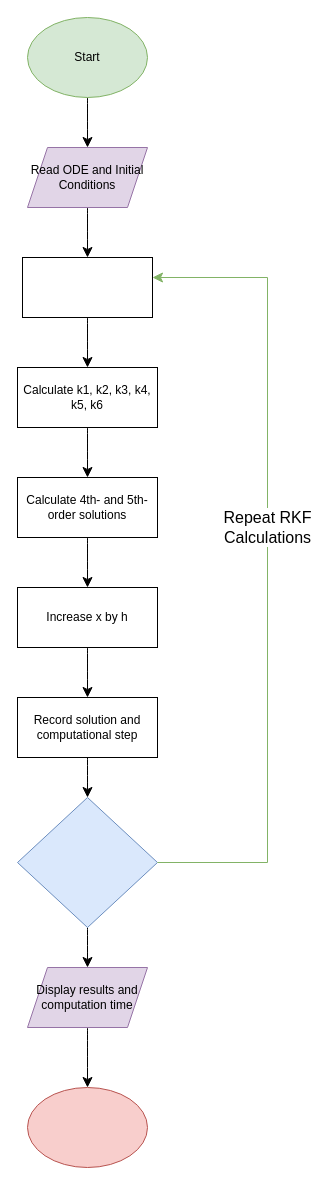
This 328x1185 diagram has some shape labels left out. The shapes that lost their labels are listed below. From the top down, each one's centre as x and y in pixels, then its label:
the point at 87,287: Set x=x0, y=y0, and h
the point at 87,862: Has the required number of steps been reached?
the point at 87,1127: End
